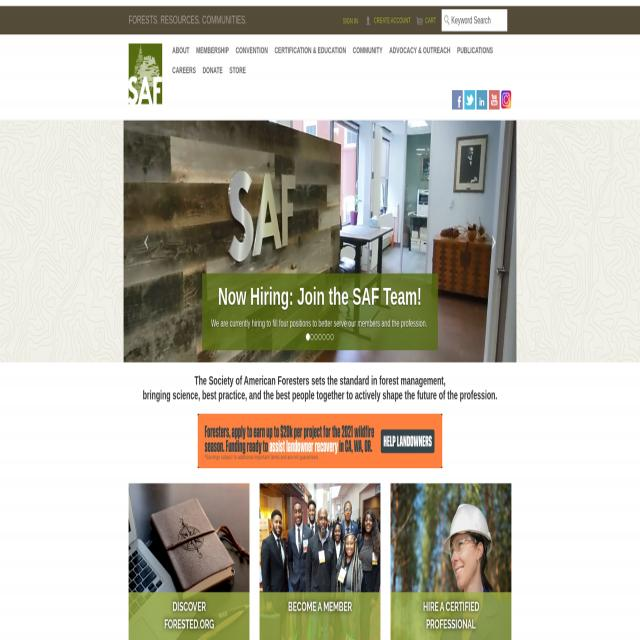button: (129, 482, 250, 640), (260, 483, 380, 640), (391, 484, 511, 640), (198, 414, 442, 468), (139, 222, 155, 270), (485, 220, 499, 258), (452, 90, 463, 110), (465, 90, 475, 110), (477, 90, 487, 110), (489, 90, 499, 110), (501, 90, 511, 109)
field: (442, 9, 508, 32)
